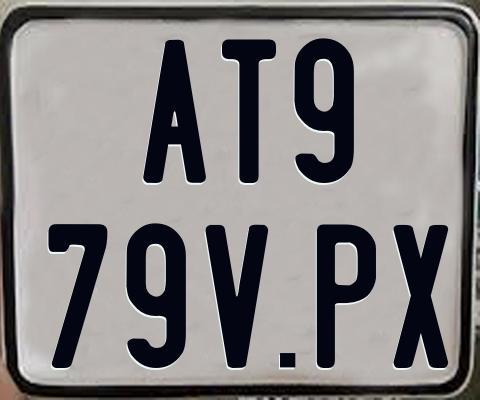7: (45, 221, 109, 369)
9: (291, 38, 353, 189), (124, 222, 187, 370)
A: (142, 39, 210, 185)
P: (314, 224, 375, 372)
T: (221, 36, 277, 183)
V: (205, 224, 273, 370)
X: (393, 223, 448, 368)
